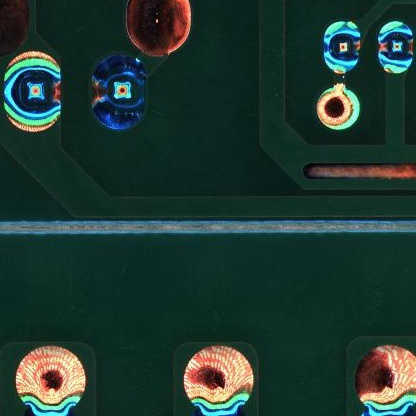spot: (3, 44, 61, 135), (92, 52, 149, 133), (323, 17, 365, 77), (374, 17, 414, 78), (317, 82, 363, 132)
